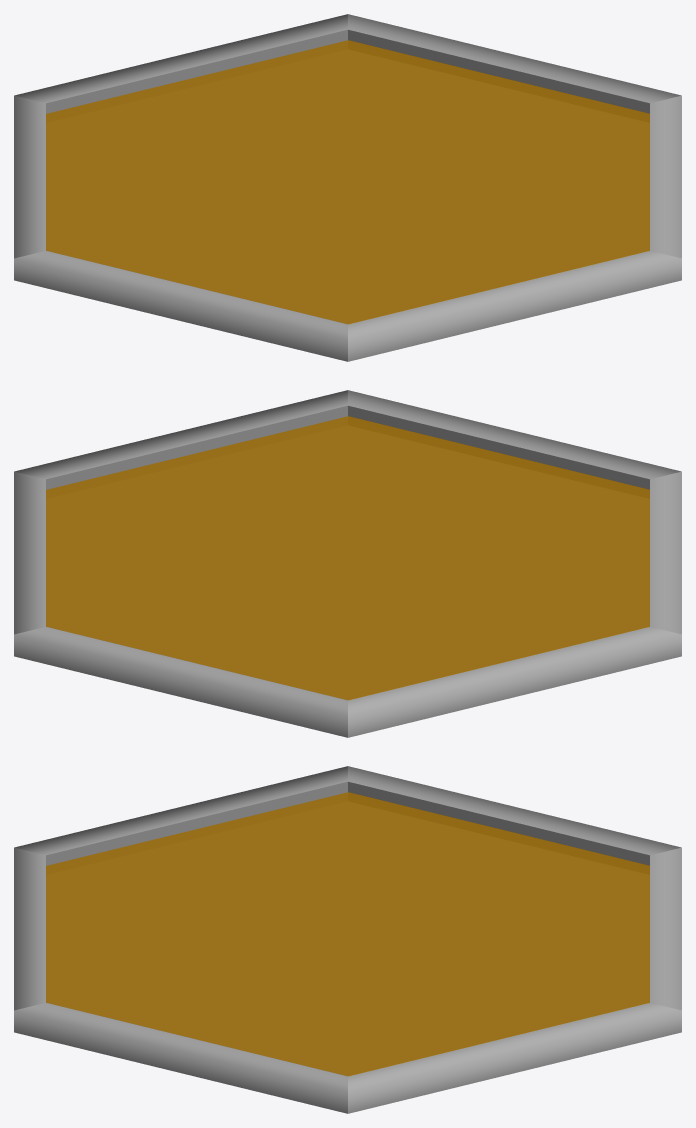
File: BottomPool.fbx
The picture shows the model from 3 angles, top to bottom: view 1: azimuth 30°, elevation 25°; view 2: azimuth 150°, elevation 25°; view 3: azimuth 270°, elevation 25°; orthographic projection.
Visible parts, largest first — view 1: PoolIndigoWater, PoolTotalWater; view 2: PoolIndigoWater, PoolTotalWater; view 3: PoolIndigoWater, PoolTotalWater.
Part boxes in pixels (box(x1,y1,x2,y2)): PoolIndigoWater: box(46, 40, 649, 324); PoolTotalWater: box(14, 14, 681, 361); PoolIndigoWater: box(46, 416, 649, 700); PoolTotalWater: box(14, 390, 681, 737); PoolIndigoWater: box(46, 792, 649, 1076); PoolTotalWater: box(14, 766, 681, 1113).
Size of the model in its own units: 0.16 by 0.005 by 0.1386.
